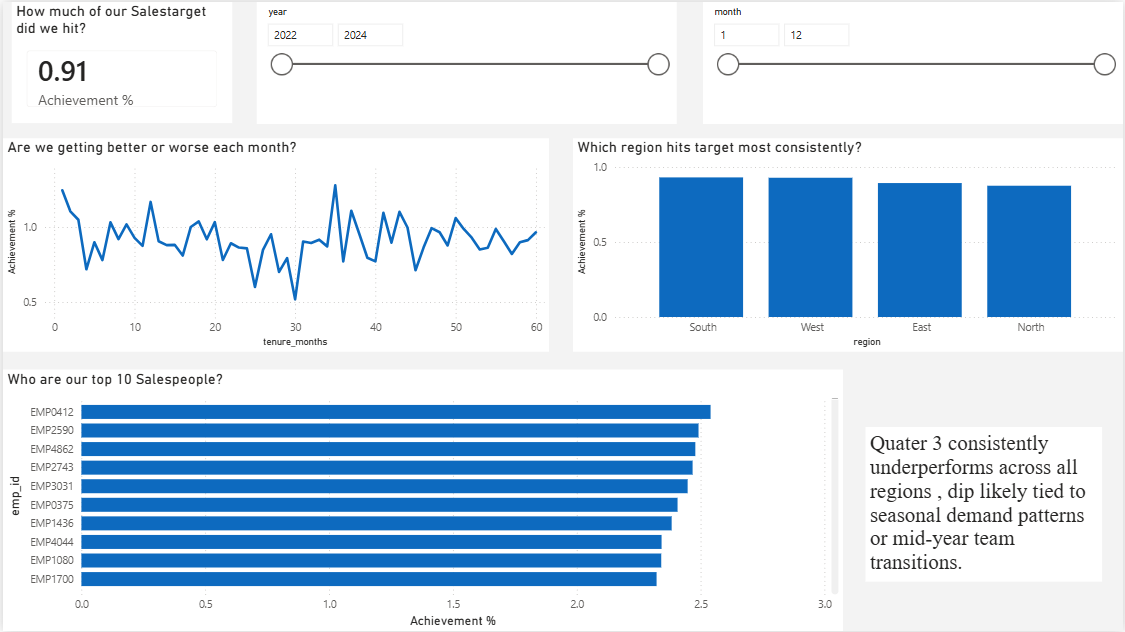

The page's visual inventory and layout, read from the dashboard file:
{"tool":"powerbi","page":{"name":"Sales Performance","canvas":[1280,720],"ordinal":2},"visuals":[{"type":"cardVisual","title":"How much of our Salestarget did we hit?","fields":{"Data":["hr_analytics_db employees.Achievement %"]},"box":[10,0,252,138],"z":0},{"type":"clusteredBarChart","title":"Who are our top 10 Salespeople?","fields":{"Category":["hr_analytics_db employees.emp_id"],"Y":["hr_analytics_db employees.Achievement %"]},"box":[0,420,960,300],"z":1000},{"type":"lineChart","title":"Are we getting better or worse each month?","fields":{"Category":["hr_analytics_db attrition.tenure_months"],"Y":["hr_analytics_db employees.Achievement %"]},"box":[0,155.7,624.3,244.3],"z":2000},{"type":"clusteredColumnChart","title":"Which region hits target most consistently?","fields":{"Category":["hr_analytics_db employees.region"],"Y":["hr_analytics_db employees.Achievement %"]},"box":[651.4,155.7,628.6,244.3],"z":3000},{"type":"slicer","fields":{"Values":["hr_analytics_db sales_performance.year"]},"box":[290,0,480,138.6],"z":4000},{"type":"slicer","fields":{"Values":["hr_analytics_db sales_performance.month"]},"box":[800,0,480,138.6],"z":5000},{"type":"textbox","box":[985.7,485.7,270,177.1],"z":6000}]}

Visuals, with their boxes in screenshot pixels (x1, y1, x2, y2), scaled from the page's 1280x720 canvas onto the 1125x632 screenshot:
"How much of our Salestarget did we hit?" cardVisual: bbox(9, 0, 230, 121)
"Who are our top 10 Salespeople?" clusteredBarChart: bbox(0, 369, 844, 631)
"Are we getting better or worse each month?" lineChart: bbox(0, 137, 549, 351)
"Which region hits target most consistently?" clusteredColumnChart: bbox(573, 137, 1124, 351)
slicer - hr_analytics_db sales_performance.year: bbox(255, 0, 677, 122)
slicer - hr_analytics_db sales_performance.month: bbox(703, 0, 1124, 122)
textbox: bbox(866, 426, 1104, 582)
